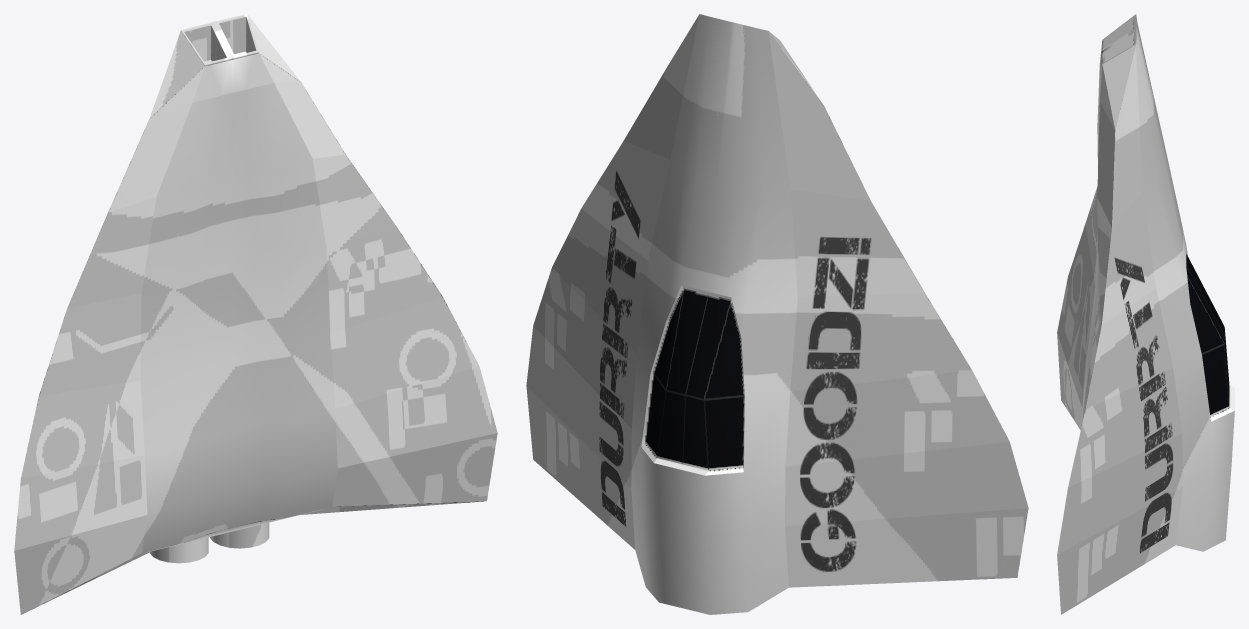
File: ship6_DurttyGoodz.FBX
3 views of the same model, side by side, from view 1: azimuth 30°, elevation 25°; view 2: azimuth 150°, elevation 25°; view 3: azimuth 270°, elevation 25° (orthographic). The views are drawn at different scales.
Parts seen in each view (by area): view 1: ship6_DurrtyGoodz; view 2: ship6_DurrtyGoodz; view 3: ship6_DurrtyGoodz.
Part boxes in pixels (x1,y1,x2,y2): ship6_DurrtyGoodz: (14, 14, 497, 614); ship6_DurrtyGoodz: (526, 14, 1028, 614); ship6_DurrtyGoodz: (1057, 14, 1234, 614).
Bounding box in the file's own units: 80.24 × 84.04 × 27.08.
1 material, 1 textured.
